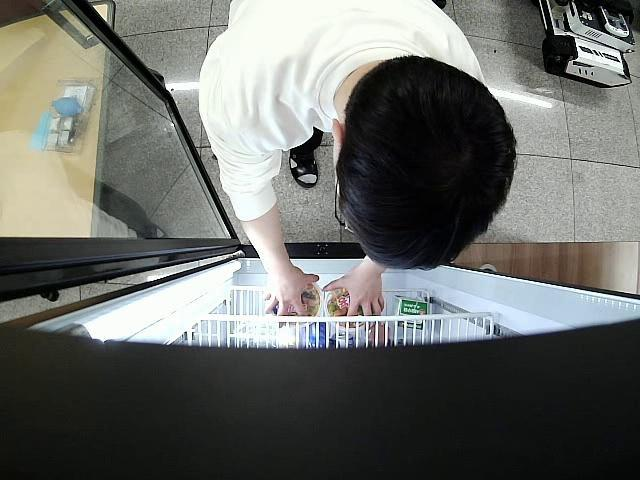09_yukGaeJang: (268, 284, 322, 328), (324, 284, 364, 329)
